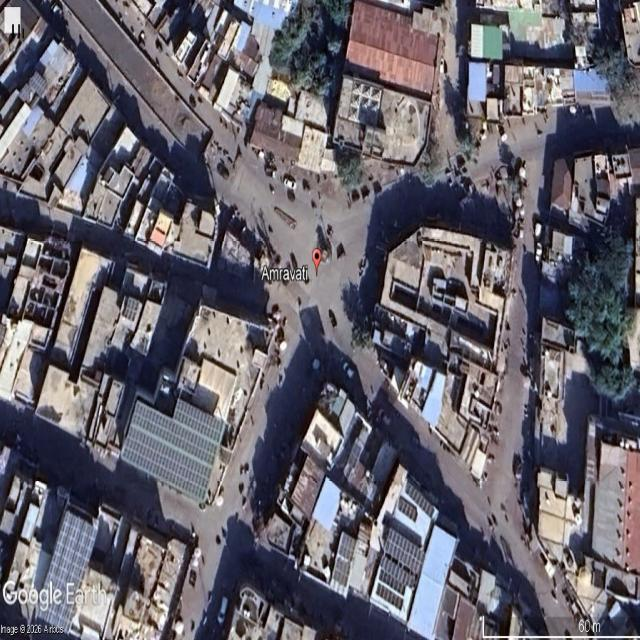objects-ruins-artifacts: (296, 137, 566, 541), (48, 178, 258, 330)
